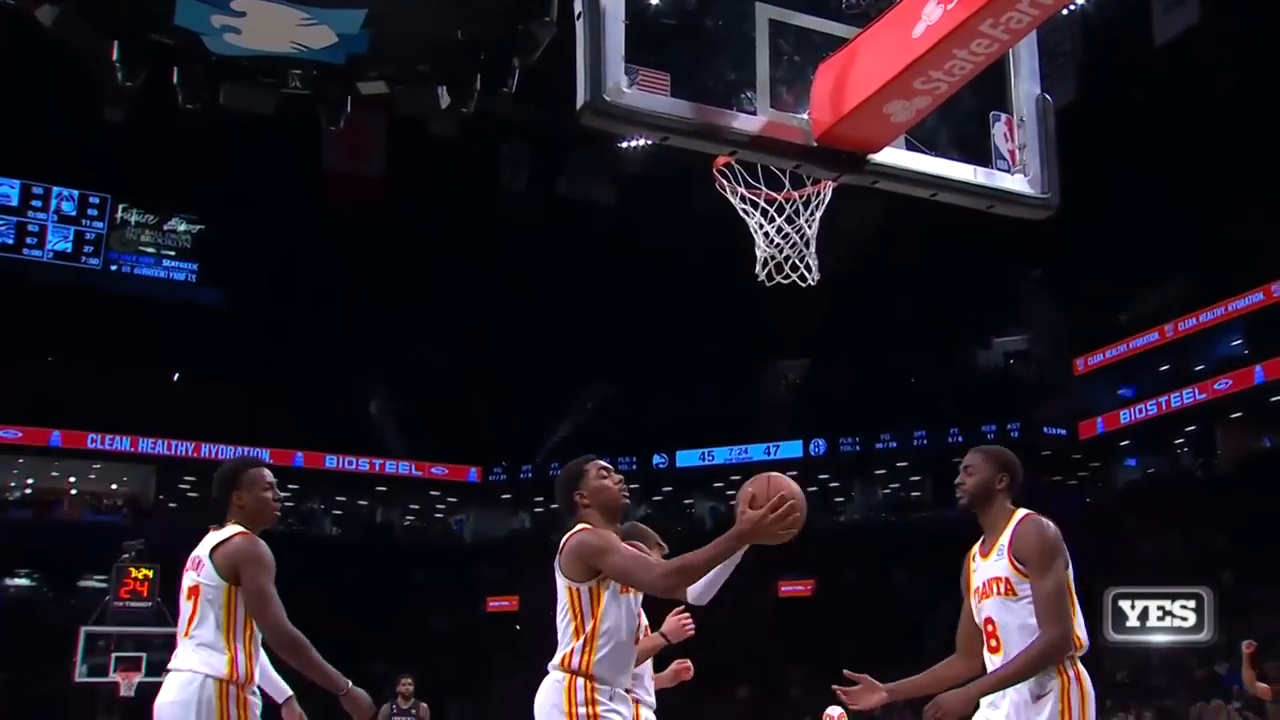ball: (725, 464, 813, 552)
net: (706, 132, 847, 289)
